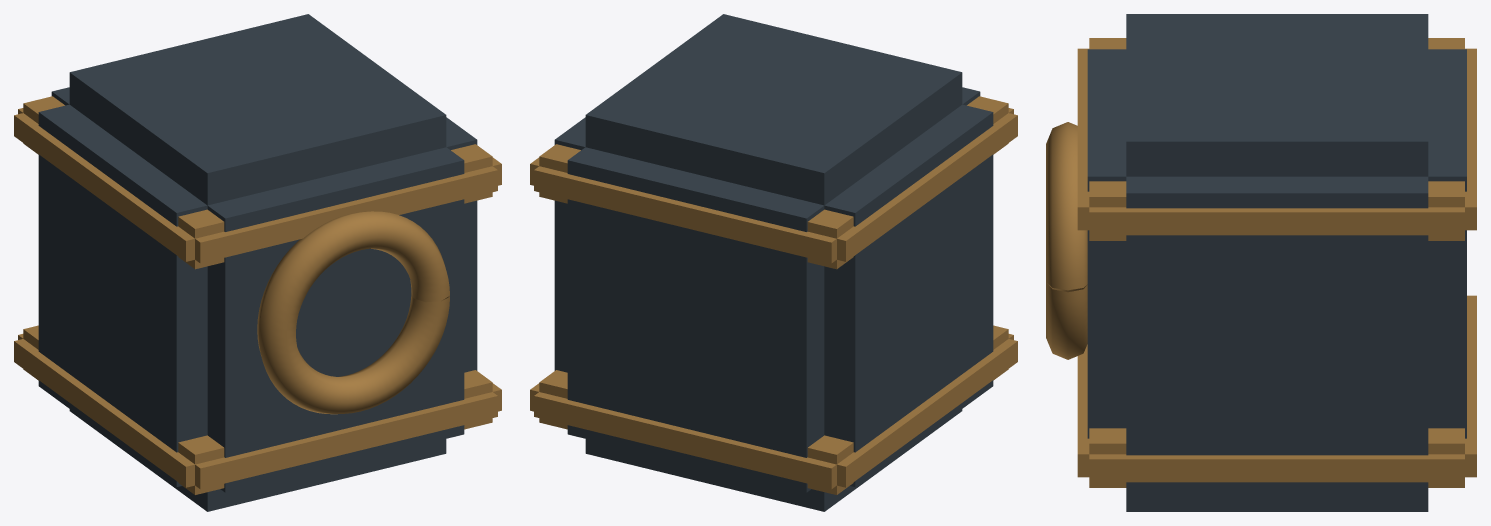
File: fracture-brace-v01.glb
The picture shows the model from 3 angles, left to right: view 1: azimuth 30°, elevation 25°; view 2: azimuth 150°, elevation 25°; view 3: azimuth 270°, elevation 25°; orthographic projection. The views are drawn at different scales.
Parts seen in each view (by area): view 1: Fracture Basalt • charcoal, Fracture Bronze • forged warm; view 2: Fracture Basalt • charcoal, Fracture Bronze • forged warm; view 3: Fracture Basalt • charcoal, Fracture Bronze • forged warm.
Boxes of the visible parts, x1=… form: Fracture Basalt • charcoal: x1=38, y1=14, x2=477, y2=511; Fracture Bronze • forged warm: x1=14, y1=96, x2=501, y2=494; Fracture Basalt • charcoal: x1=554, y1=14, x2=993, y2=511; Fracture Bronze • forged warm: x1=530, y1=96, x2=1017, y2=494; Fracture Basalt • charcoal: x1=1087, y1=14, x2=1466, y2=511; Fracture Bronze • forged warm: x1=1046, y1=38, x2=1476, y2=487.
Bounding box in the file's own units: 0.82 × 0.84 × 0.885.
